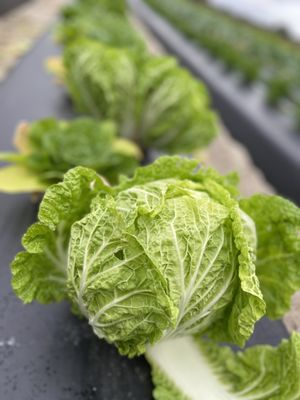curry: (48, 0, 219, 157)
